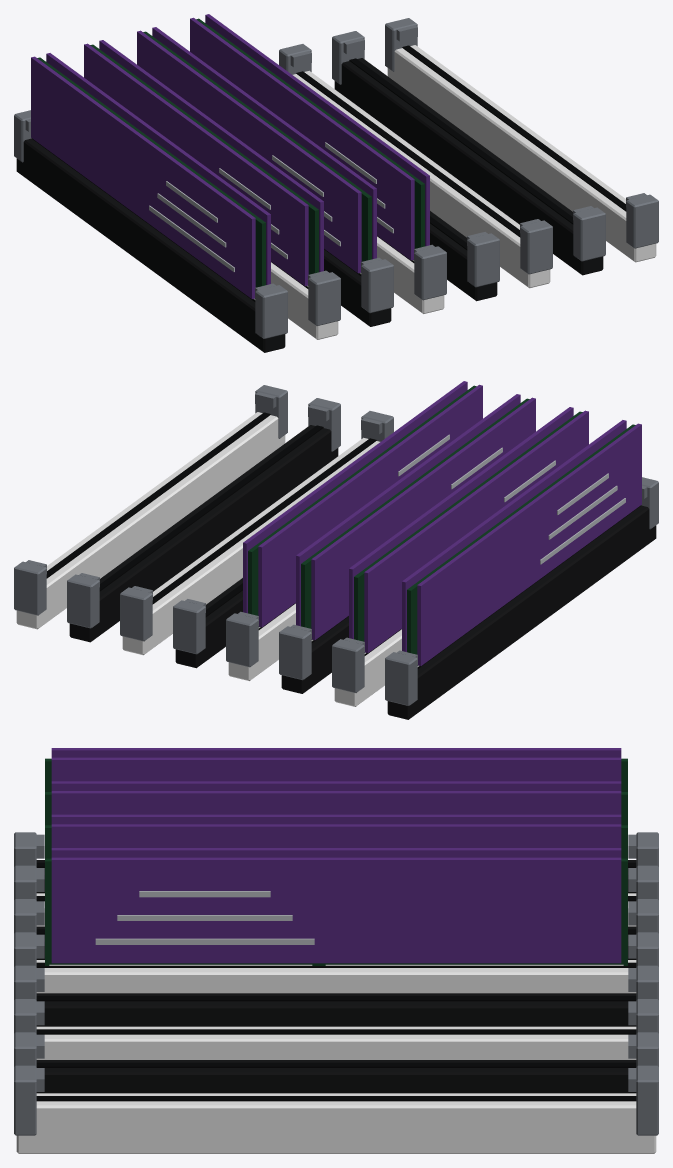
File: hwm_ram_ddr3_8gb.glb
3 views of the same model, one above another, from view 1: azimuth 30°, elevation 25°; view 2: azimuth 150°, elevation 25°; view 3: azimuth 270°, elevation 25° (orthographic). The views are drawn at different scales.
Visible parts, largest first — view 1: Slots, Stick_0, Stick_2, Stick_1, Stick_3, Latch_5_1, Latch_6_1, Latch_2_1, Latch_3_1, Latch_4_1, Latch_7_1, Latch_1_1 (+5 smaller); view 2: Slots, Stick_0, Stick_2, Stick_1, Stick_3, Latch_5_0, Latch_6_0, Latch_2_0, Latch_3_0, Latch_4_0, Latch_7_0, Latch_1_0 (+5 smaller); view 3: Slots, Stick_3, Stick_1, Stick_0, Stick_2, Latch_7_0, Latch_7_1, Latch_0_0, Latch_0_1, Latch_2_0, Latch_2_1, Latch_3_0 (+9 smaller).
Part boxes in pixels (x1,y1,x2,y2): Slots: (16, 45, 656, 352); Stick_0: (31, 53, 270, 299); Stick_2: (137, 27, 376, 273); Stick_1: (84, 40, 323, 286); Stick_3: (190, 14, 429, 261); Latch_5_1: (520, 219, 552, 274); Latch_6_1: (573, 206, 605, 261); Latch_2_1: (361, 257, 393, 313); Latch_3_1: (414, 244, 446, 300); Latch_4_1: (467, 232, 499, 287); Latch_7_1: (626, 193, 658, 248); Latch_1_1: (308, 270, 340, 325); Slots: (16, 412, 656, 719); Stick_0: (402, 420, 641, 666); Stick_2: (296, 394, 535, 640); Stick_1: (349, 407, 588, 653); Stick_3: (243, 381, 482, 628); Latch_5_0: (120, 586, 152, 641); Latch_6_0: (67, 573, 99, 628); Latch_2_0: (279, 624, 311, 680); Latch_3_0: (226, 611, 258, 667); Latch_4_0: (173, 599, 205, 654); Latch_7_0: (14, 560, 46, 615); Latch_1_0: (332, 637, 364, 692); Slots: (16, 860, 656, 1153); Stick_3: (45, 848, 627, 965); Stick_1: (45, 781, 627, 825); Stick_0: (45, 748, 627, 791); Stick_2: (45, 814, 627, 858); Latch_7_0: (628, 1065, 658, 1135); Latch_7_1: (14, 1065, 44, 1135); Latch_0_0: (628, 832, 658, 866); Latch_0_1: (14, 832, 44, 866); Latch_2_0: (628, 899, 658, 933); Latch_2_1: (14, 899, 44, 933); Latch_3_0: (628, 932, 658, 966).
Bounding box in the file's own units: 0.1346 × 0.0404 × 0.1472.
